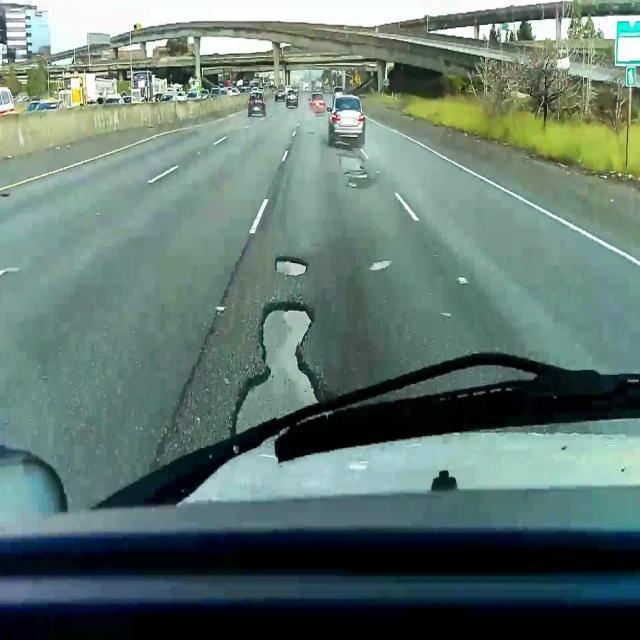Buraco: (227, 299, 337, 441), (336, 152, 370, 180), (272, 255, 310, 278), (0, 190, 13, 201), (345, 180, 360, 189)
